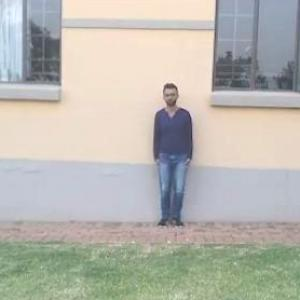follow: (152, 81, 195, 227)
